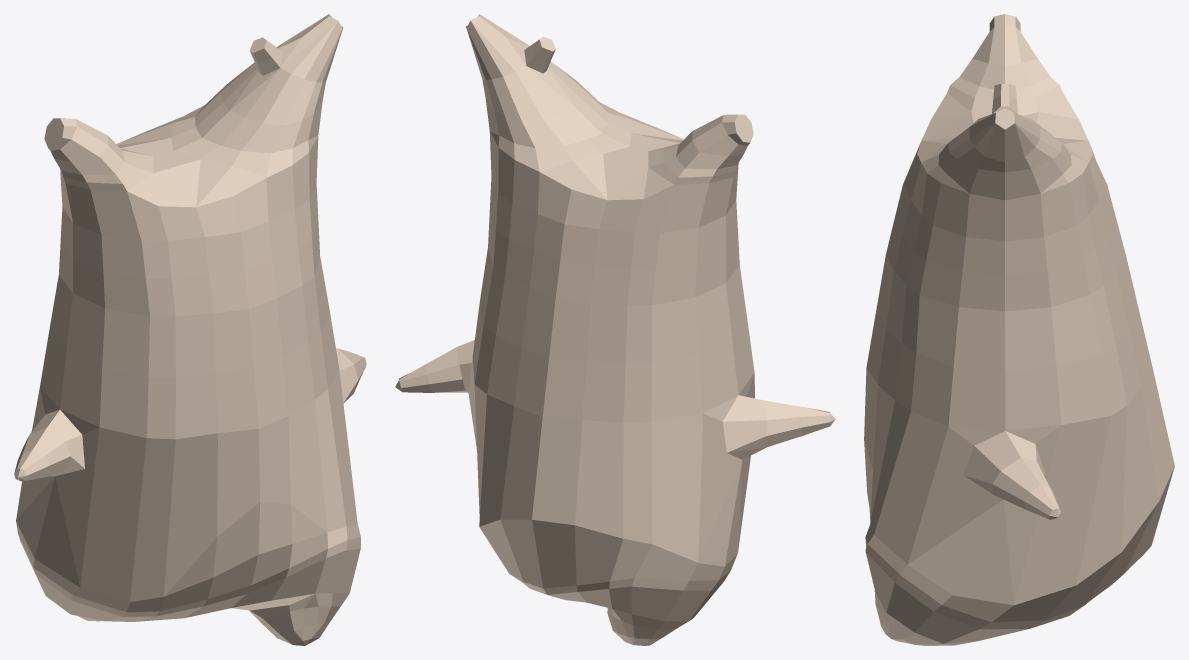
File: frame_0005.obj
3 renders of one model, left to right at view 1: azimuth 30°, elevation 25°; view 2: azimuth 150°, elevation 25°; view 3: azimuth 270°, elevation 25°, orthographic. The views are drawn at different scales.
Visible parts, largest first — view 1: korok; view 2: korok; view 3: korok.
Boxes of the visible parts, <box> form: korok: <box>14,14,366,645</box>; korok: <box>395,14,835,645</box>; korok: <box>864,14,1174,645</box>.
Bounding box in the file's own units: 1.55 × 2.14 × 1.04.
